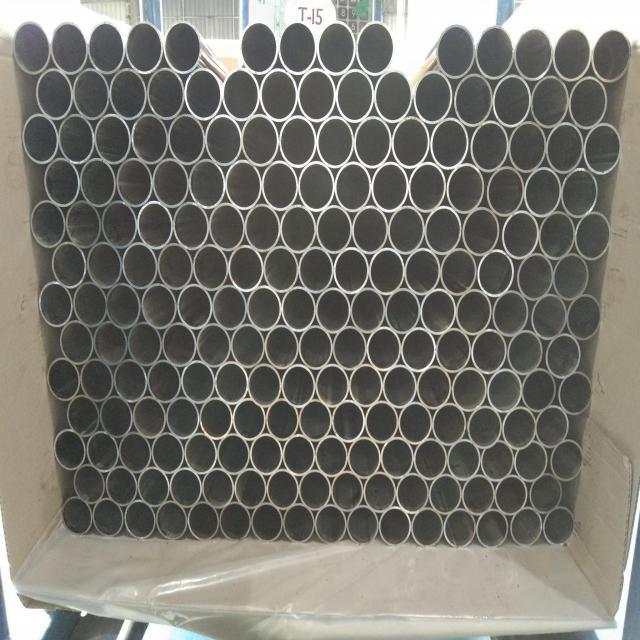pipe: (590, 26, 633, 83), (552, 24, 592, 82), (435, 22, 476, 78), (11, 19, 52, 74), (475, 24, 515, 80), (513, 25, 553, 81), (316, 20, 357, 74), (413, 70, 454, 124), (373, 69, 414, 123), (530, 74, 570, 129), (335, 68, 375, 123), (355, 20, 395, 75), (297, 67, 337, 122), (492, 73, 532, 128), (507, 120, 547, 174), (391, 115, 431, 169), (239, 20, 279, 74), (125, 20, 165, 74), (278, 20, 318, 74), (453, 72, 493, 126), (568, 75, 607, 130), (222, 66, 261, 121), (109, 66, 148, 121), (485, 165, 526, 217), (185, 66, 223, 122), (469, 120, 509, 173), (430, 117, 470, 170), (241, 113, 280, 167), (279, 114, 318, 168), (316, 115, 355, 169), (354, 115, 393, 169), (260, 67, 299, 121), (147, 66, 186, 120), (50, 20, 89, 74), (87, 20, 126, 74), (545, 121, 584, 175), (36, 67, 74, 122), (163, 21, 203, 73), (583, 123, 623, 175), (167, 113, 206, 166), (94, 112, 133, 165), (205, 113, 243, 167), (131, 112, 169, 166), (73, 67, 111, 121), (446, 163, 486, 214), (523, 166, 562, 218), (500, 210, 540, 260), (561, 166, 598, 220), (408, 162, 447, 213), (225, 159, 263, 211), (334, 161, 372, 213), (461, 207, 501, 256), (423, 205, 462, 255), (152, 158, 190, 209), (115, 157, 153, 208), (188, 158, 226, 209), (298, 161, 336, 212), (261, 160, 299, 211), (371, 161, 409, 212), (79, 157, 117, 208), (58, 113, 95, 165), (476, 249, 516, 297), (538, 210, 576, 260), (388, 205, 426, 255), (44, 156, 81, 207), (515, 252, 554, 300), (440, 247, 478, 296), (351, 206, 389, 255), (100, 200, 138, 249), (244, 203, 281, 253), (208, 202, 245, 252), (65, 199, 102, 249), (23, 114, 60, 164), (368, 247, 406, 295), (574, 211, 611, 260), (316, 205, 353, 254), (280, 204, 317, 253), (192, 243, 229, 292), (137, 200, 174, 249), (157, 242, 194, 291), (173, 201, 210, 250), (262, 245, 299, 294), (121, 241, 158, 290), (491, 291, 530, 337), (506, 330, 545, 376), (530, 293, 568, 340), (140, 283, 178, 330), (404, 248, 441, 296), (227, 244, 264, 292), (552, 252, 588, 301), (298, 245, 334, 294), (52, 240, 88, 289), (87, 241, 123, 290), (455, 289, 493, 335), (384, 287, 421, 334), (176, 283, 213, 330), (333, 246, 369, 294), (544, 333, 582, 378), (420, 288, 457, 334), (435, 328, 472, 374), (471, 329, 508, 375), (451, 366, 488, 412), (350, 287, 386, 334), (30, 200, 66, 247), (281, 286, 317, 333), (212, 284, 248, 331), (38, 281, 74, 328), (246, 285, 282, 332), (72, 281, 108, 328), (106, 282, 142, 329), (415, 365, 452, 410), (521, 368, 558, 413), (486, 367, 522, 413), (298, 325, 334, 371), (264, 324, 300, 370), (230, 323, 266, 369), (400, 326, 436, 372), (566, 294, 601, 341), (332, 325, 367, 371), (316, 287, 351, 333), (127, 321, 162, 367), (60, 320, 95, 366), (197, 322, 232, 368), (466, 405, 503, 448), (431, 403, 467, 447), (501, 406, 537, 450), (557, 371, 593, 415), (146, 359, 182, 403), (367, 326, 402, 371), (181, 360, 216, 405), (247, 362, 282, 407), (214, 360, 249, 405), (162, 322, 197, 367), (113, 358, 148, 403), (93, 321, 128, 366), (79, 358, 114, 403), (331, 399, 366, 443), (382, 364, 417, 408), (349, 363, 384, 407), (281, 363, 316, 407), (315, 363, 350, 407), (132, 396, 167, 440), (447, 439, 482, 482), (535, 406, 570, 449), (413, 438, 448, 481), (398, 402, 433, 445), (298, 399, 333, 442), (199, 397, 234, 440), (365, 400, 399, 444), (166, 396, 200, 440), (47, 357, 81, 401), (514, 441, 550, 482), (265, 399, 300, 441), (184, 433, 218, 476), (217, 433, 251, 476), (314, 435, 348, 478), (380, 437, 414, 480), (347, 436, 381, 479), (99, 395, 133, 438), (494, 475, 529, 516), (461, 475, 496, 516), (480, 441, 515, 482), (428, 473, 462, 515), (151, 432, 185, 474), (86, 430, 120, 472), (396, 472, 430, 514), (282, 434, 316, 476), (232, 398, 266, 440), (67, 394, 101, 436), (266, 468, 300, 510), (549, 441, 584, 481), (118, 432, 152, 473), (475, 508, 509, 549), (529, 473, 563, 514), (510, 506, 544, 547), (169, 467, 203, 508), (201, 468, 235, 509), (363, 472, 397, 513), (54, 429, 87, 471), (250, 433, 283, 475), (234, 468, 267, 510), (299, 469, 332, 511), (105, 466, 139, 506), (411, 507, 445, 547), (443, 508, 476, 549), (137, 467, 170, 508), (378, 506, 411, 547), (331, 471, 364, 512), (346, 505, 379, 546), (314, 504, 347, 545), (73, 464, 106, 504), (543, 506, 576, 546), (155, 500, 188, 540), (219, 501, 252, 541), (251, 502, 284, 542), (61, 496, 93, 537), (283, 503, 315, 544), (124, 499, 156, 539), (188, 501, 220, 541), (93, 498, 124, 538)
